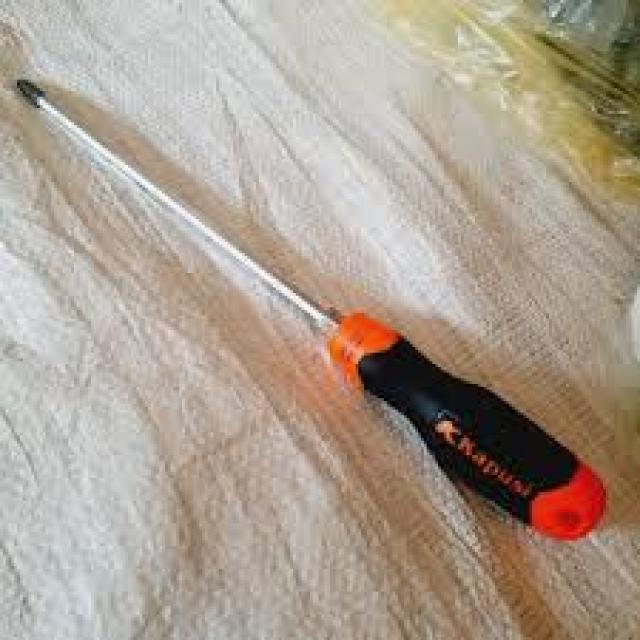screwdriver: (15, 75, 608, 542)
